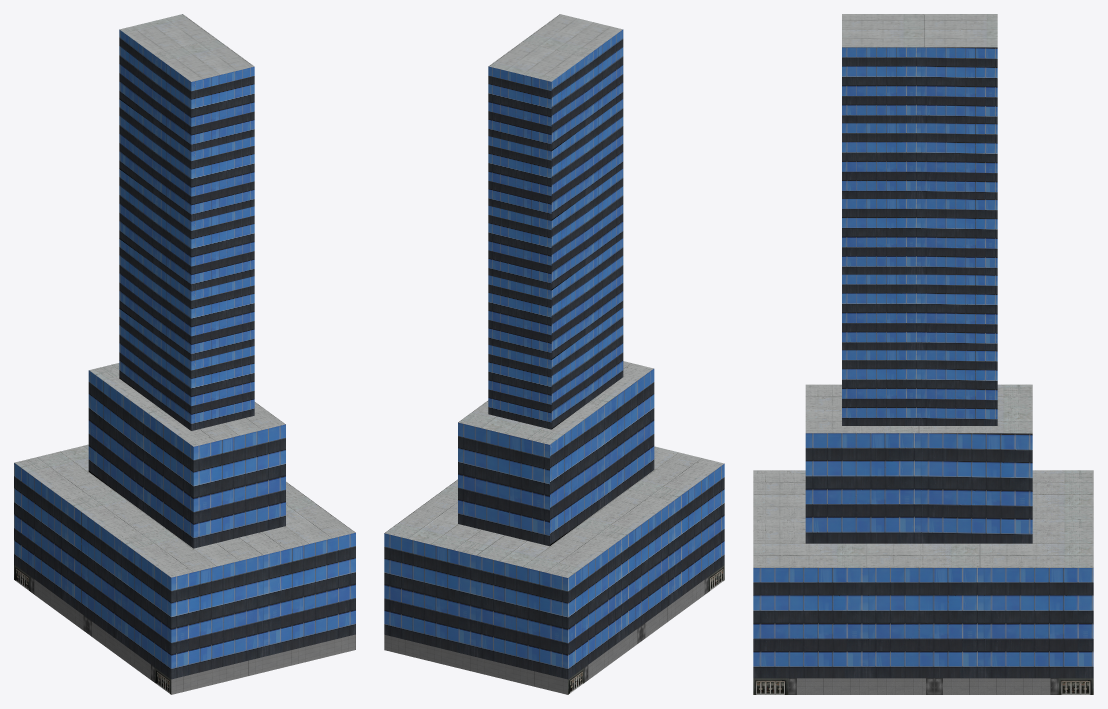
Rendered from Building045.fbx.
3 views of the same model, side by side, from view 1: azimuth 30°, elevation 25°; view 2: azimuth 150°, elevation 25°; view 3: azimuth 270°, elevation 25° (orthographic). The views are drawn at different scales.
Visible parts, largest first — view 1: Building045; view 2: Building045; view 3: Building045.
Part boxes in pixels (box(x1,y1,x2,y2)): Building045: box(14, 14, 355, 694); Building045: box(384, 14, 724, 694); Building045: box(753, 14, 1093, 694).
Size of the model in its own units: 31.6 by 92.92 by 46.59.
